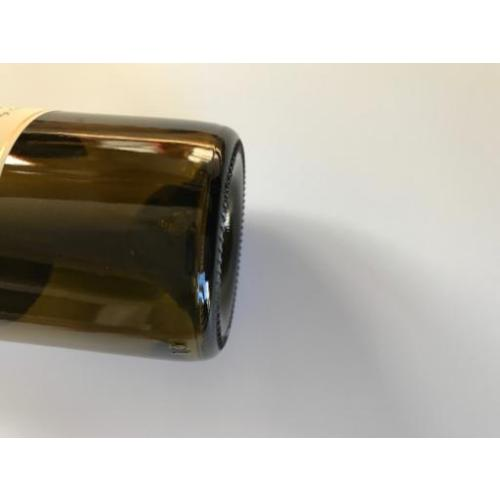glass: (0, 112, 244, 359)
